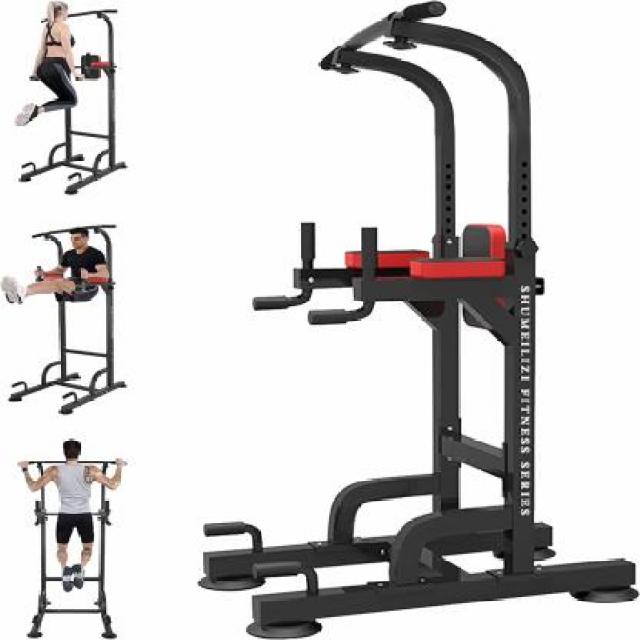chinning dipping: (200, 1, 637, 640)
